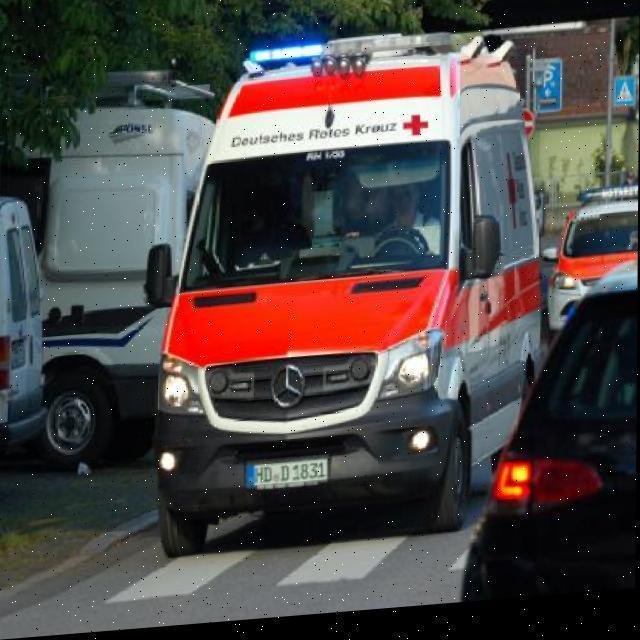Ambulance: (0, 262, 636, 638), (142, 28, 548, 564), (0, 59, 220, 478), (0, 183, 51, 470)
car: (458, 264, 637, 609), (544, 190, 637, 346)
